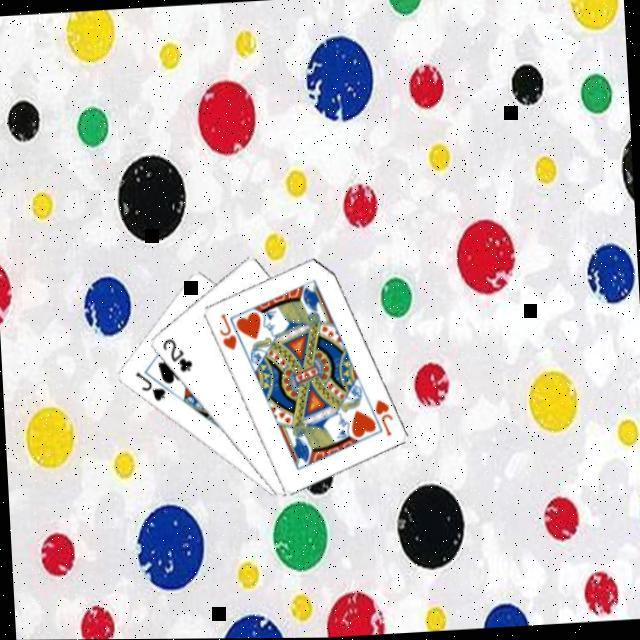2C: (162, 336, 198, 378)
JH: (373, 398, 399, 441), (217, 313, 241, 356)
JS: (133, 369, 171, 407)
